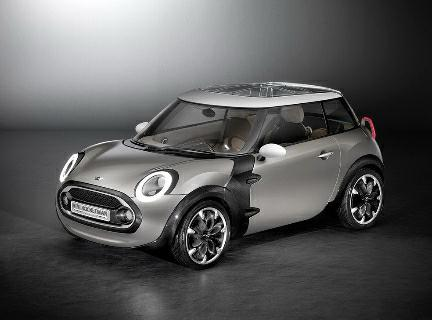MINI-ROCKETMAN: (49, 85, 399, 259)
